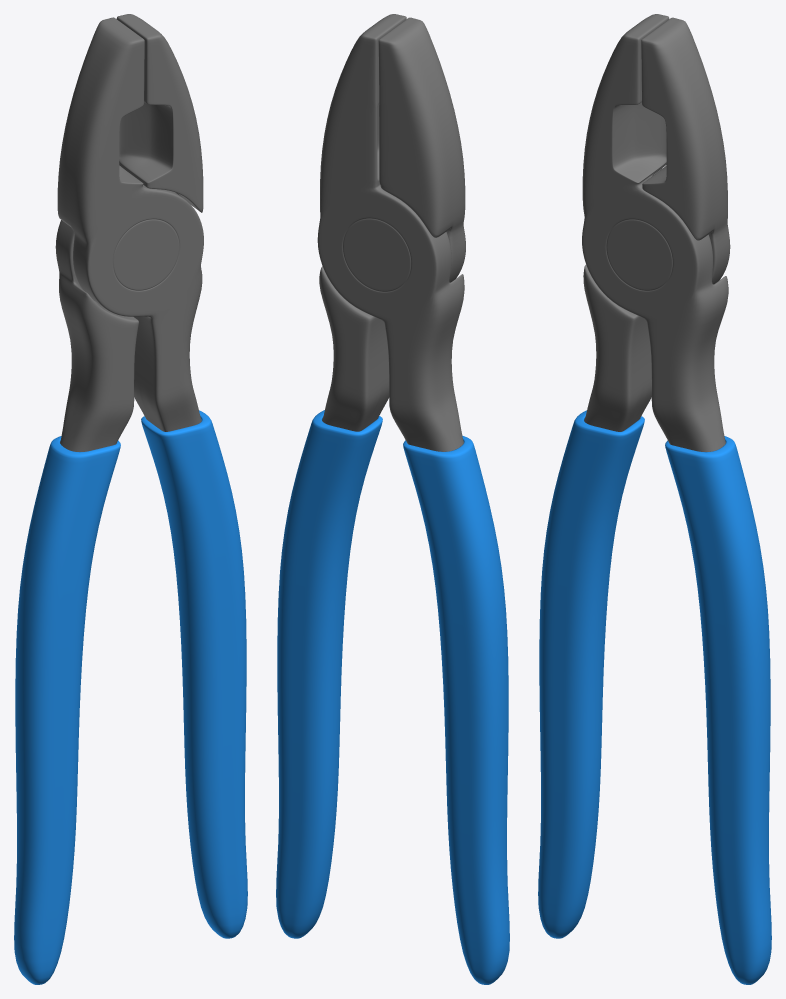
File: 13071_Lineman_Pliers_l3.obj
3 views of the same model, side by side, from view 1: azimuth 30°, elevation 25°; view 2: azimuth 150°, elevation 25°; view 3: azimuth 330°, elevation 25° (orthographic).
Visible parts, largest first — view 1: lineman_pliers_grip, lineman_pliers_body; view 2: lineman_pliers_grip, lineman_pliers_body; view 3: lineman_pliers_grip, lineman_pliers_body.
Part boxes in pixels (x1,y1,x2,y2): lineman_pliers_grip: (14, 410, 247, 984); lineman_pliers_body: (55, 14, 203, 451); lineman_pliers_grip: (276, 410, 509, 984); lineman_pliers_body: (317, 14, 465, 451); lineman_pliers_grip: (538, 410, 771, 984); lineman_pliers_body: (582, 14, 730, 451).
Size of the model in its own units: 5.19 by 20.49 by 1.26.
